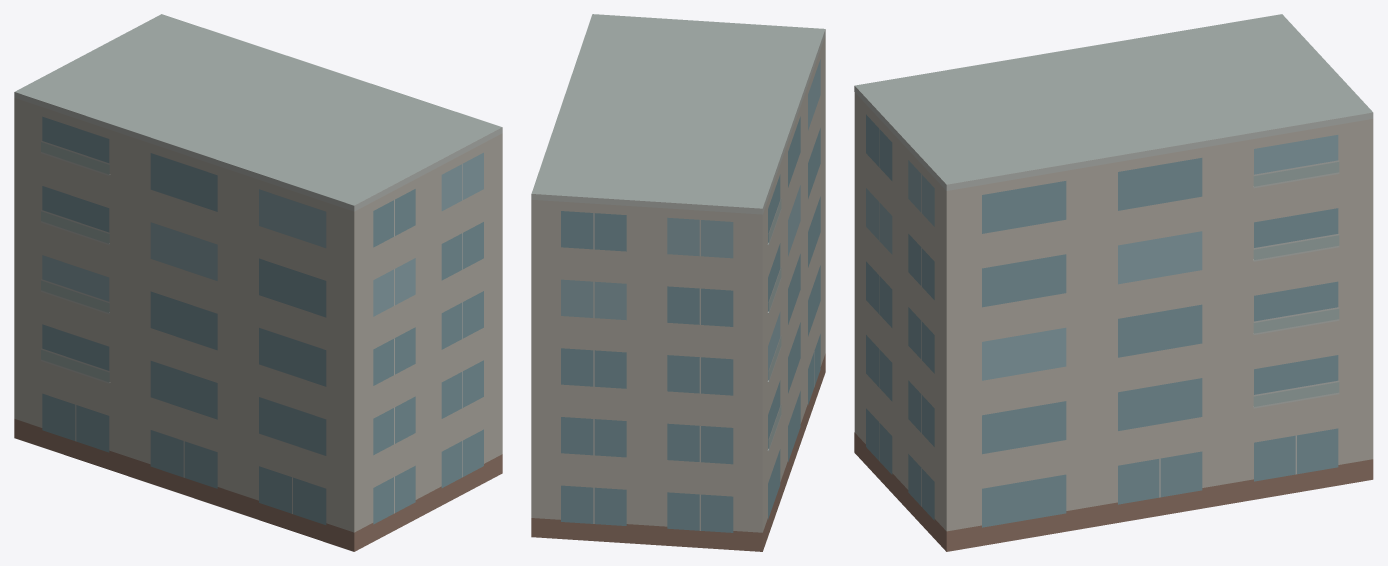
Rendered from survey-upis-32886710.glb.
3 views of the same model, side by side, from view 1: azimuth 30°, elevation 25°; view 2: azimuth 150°, elevation 25°; view 3: azimuth 270°, elevation 25° (orthographic). The views are drawn at different scales.
Parts seen in each view (by area): view 1: survey-upis-32886710.tmp; view 2: survey-upis-32886710.tmp; view 3: survey-upis-32886710.tmp.
Boxes of the visible parts, box(x1,y1,x2,y2) form: survey-upis-32886710.tmp: box(14, 14, 502, 551); survey-upis-32886710.tmp: box(531, 14, 825, 551); survey-upis-32886710.tmp: box(854, 14, 1373, 551).
Bounding box in the file's own units: 14.17 × 14.2 × 18.2.
